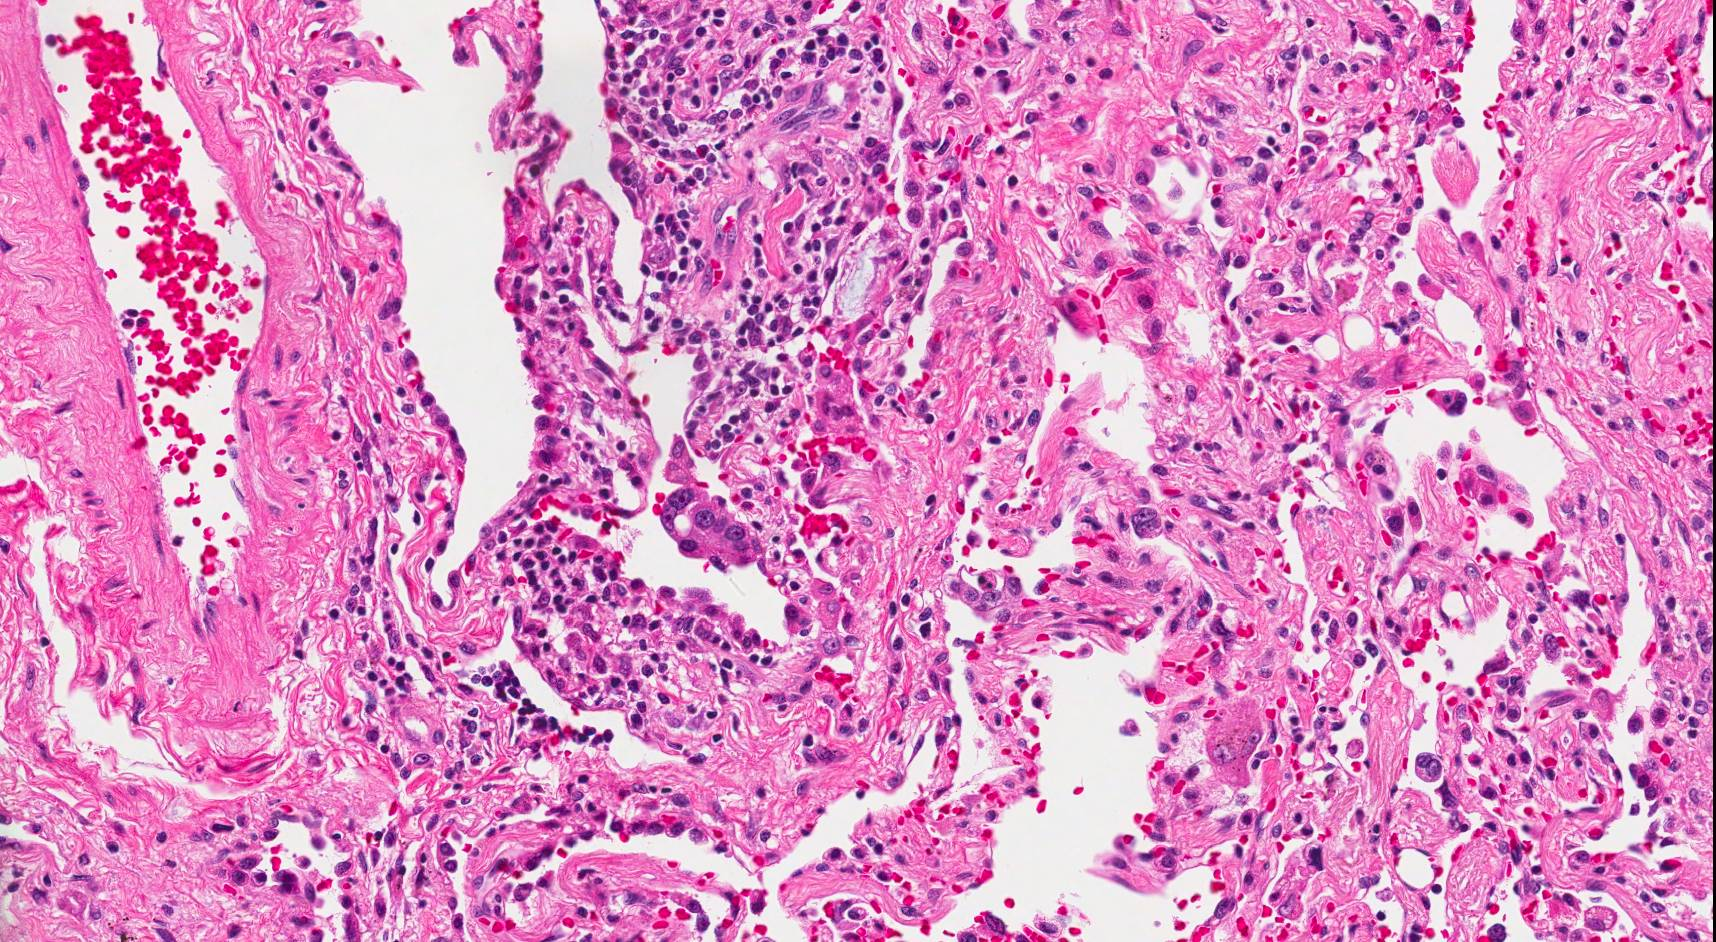stas: (658, 487, 756, 568)
